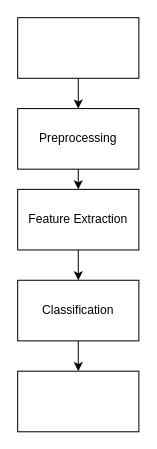
This 157x449 diagram has some shape labels left out. The box of each missing label's shape, as (x1, y1, x2, y2) in pixels:
Datasets of participants: (17, 17, 139, 78)
Healthy/Osteoporosis: (17, 370, 139, 432)
